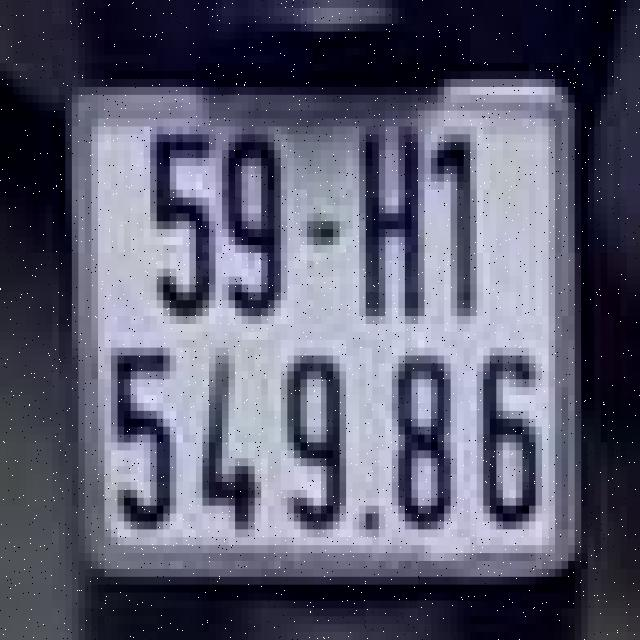1: (431, 118, 490, 324)
4: (190, 348, 262, 537)
5: (104, 344, 183, 533), (144, 126, 216, 324)
6: (477, 340, 542, 529)
8: (385, 348, 457, 529)
9: (274, 344, 353, 541), (222, 126, 300, 324)
H: (353, 122, 431, 328)
